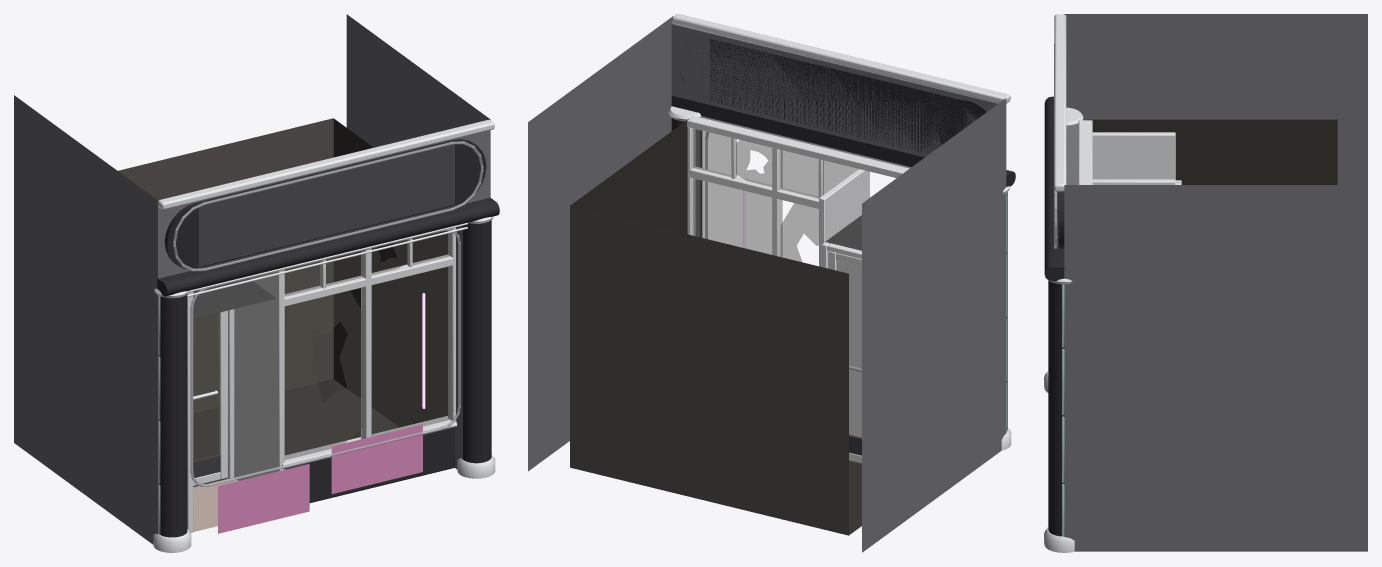
Rendered from retro_shop_dark_4a.glb.
The picture shows the model from 3 angles, left to right: view 1: azimuth 30°, elevation 25°; view 2: azimuth 150°, elevation 25°; view 3: azimuth 270°, elevation 25°; orthographic projection. The views are drawn at different scales.
Visible parts, largest first — view 1: retro_shop_dark_4a; view 2: retro_shop_dark_4a; view 3: retro_shop_dark_4a.
Part boxes in pixels (left/top/right/bottom): retro_shop_dark_4a: left=14, top=14, right=499, bottom=552; retro_shop_dark_4a: left=528, top=14, right=1015, bottom=552; retro_shop_dark_4a: left=1044, top=14, right=1367, bottom=552.
Size of the model in its own units: 4.06 by 4 by 3.2.
